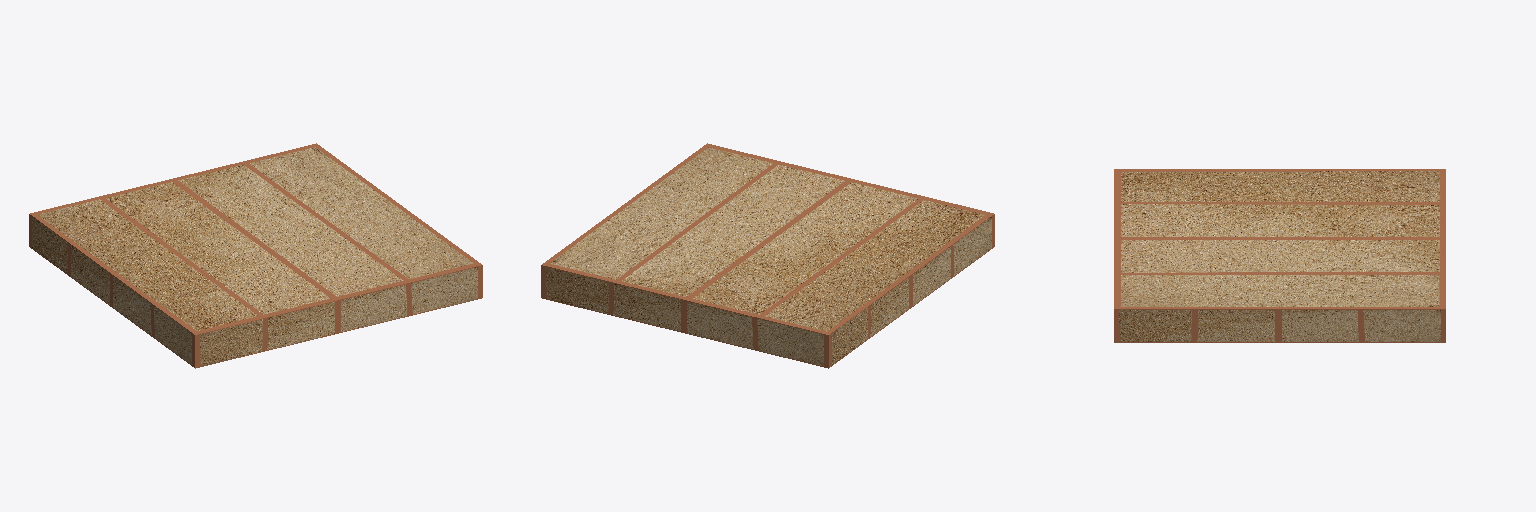
3 renders of one model, left to right at view 1: azimuth 30°, elevation 25°; view 2: azimuth 150°, elevation 25°; view 3: azimuth 270°, elevation 25°, orthographic.
Parts seen in each view (by area): view 1: Box165; view 2: Box165; view 3: Box165.
Part boxes in pixels (bbox=[...]): Box165: bbox=[29, 143, 482, 368]; Box165: bbox=[541, 143, 994, 368]; Box165: bbox=[1114, 169, 1445, 342].
Bounding box in the file's own units: 4.5 × 0.5 × 4.5.
1 materials, 1 textured.